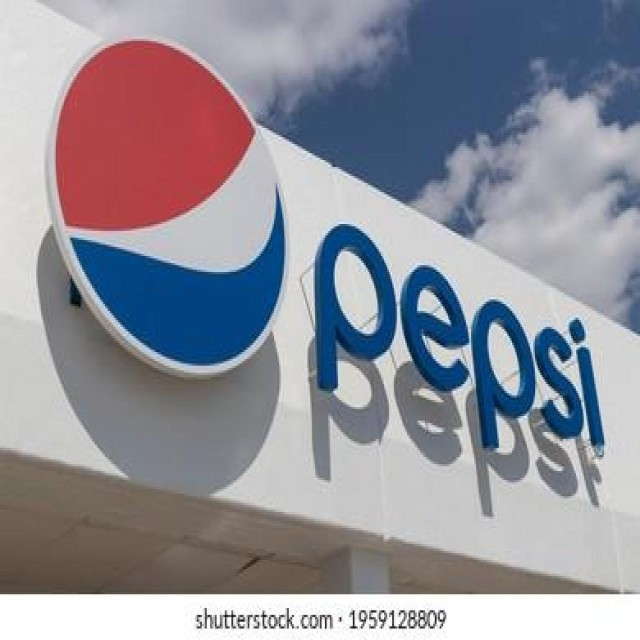pepsi: (48, 27, 298, 377)
